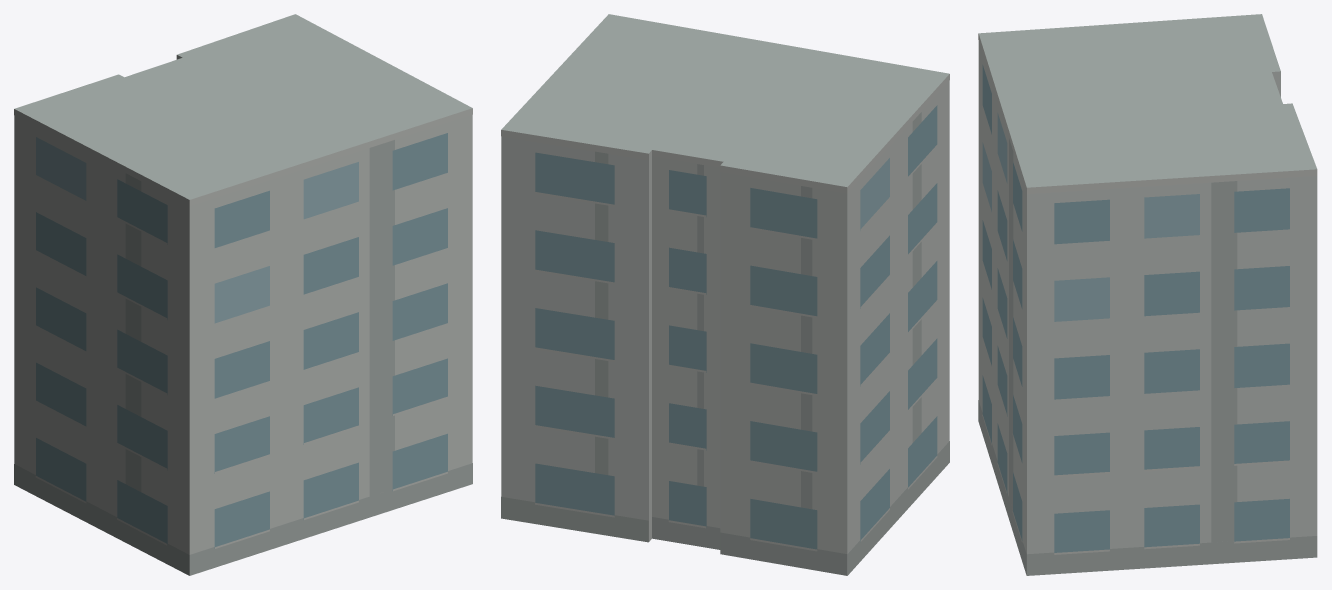
File: survey-upis-32526875.glb
3 views of the same model, side by side, from view 1: azimuth 30°, elevation 25°; view 2: azimuth 150°, elevation 25°; view 3: azimuth 270°, elevation 25° (orthographic). The views are drawn at different scales.
Parts seen in each view (by area): view 1: survey-upis-32526875.tmp; view 2: survey-upis-32526875.tmp; view 3: survey-upis-32526875.tmp.
Part boxes in pixels (x1,y1,x2,y2): survey-upis-32526875.tmp: [14, 14, 472, 575]; survey-upis-32526875.tmp: [501, 14, 949, 575]; survey-upis-32526875.tmp: [978, 14, 1317, 575].
Bounding box in the file's own units: 13.73 × 14.3 × 11.32.
